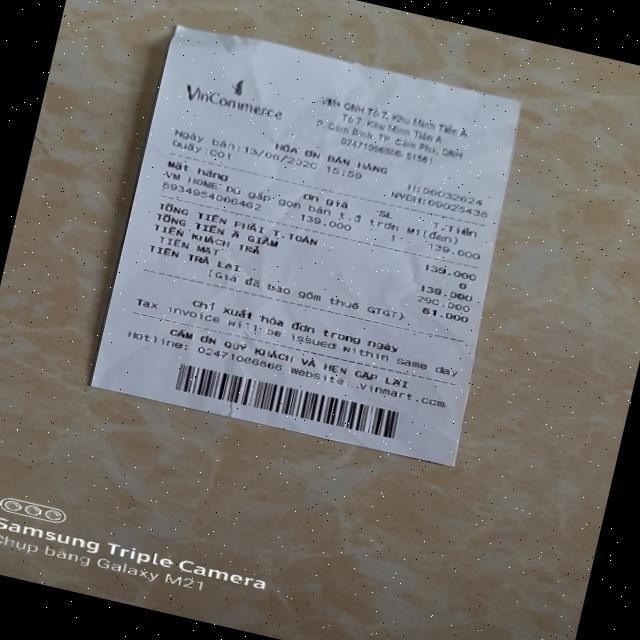Date: (157, 200, 320, 247), (242, 144, 316, 170)
Store_Name: (182, 82, 288, 124)
amount_number: (421, 261, 478, 282)
